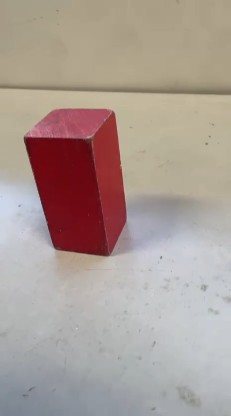red: (25, 105, 118, 251)
